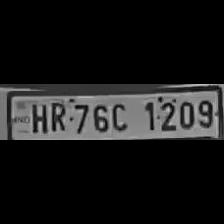0: (178, 97, 195, 128)
1: (138, 98, 156, 132)
2: (158, 98, 176, 132)
6: (91, 100, 109, 132)
7: (69, 100, 89, 132)
9: (196, 97, 214, 129)
C: (108, 99, 130, 130)
H: (28, 101, 46, 133)
R: (47, 99, 66, 133)
